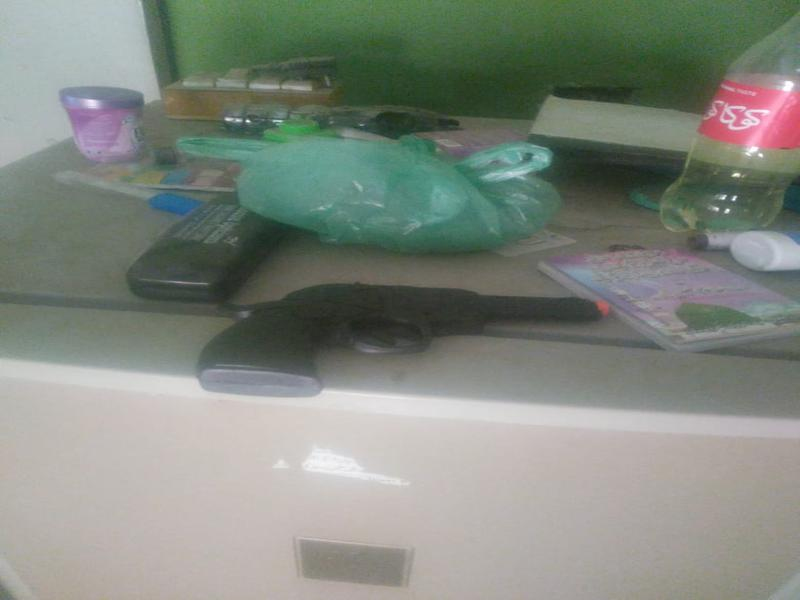gun: (188, 264, 616, 431)
